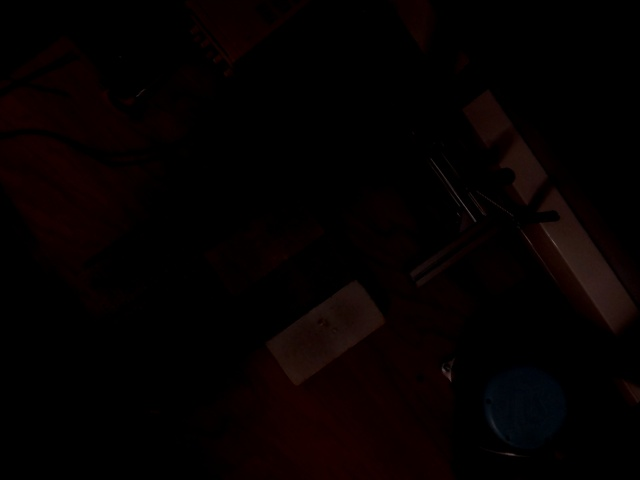brick: (232, 234, 353, 340), (201, 191, 322, 297), (76, 213, 197, 319), (107, 258, 228, 364), (264, 278, 384, 384)
